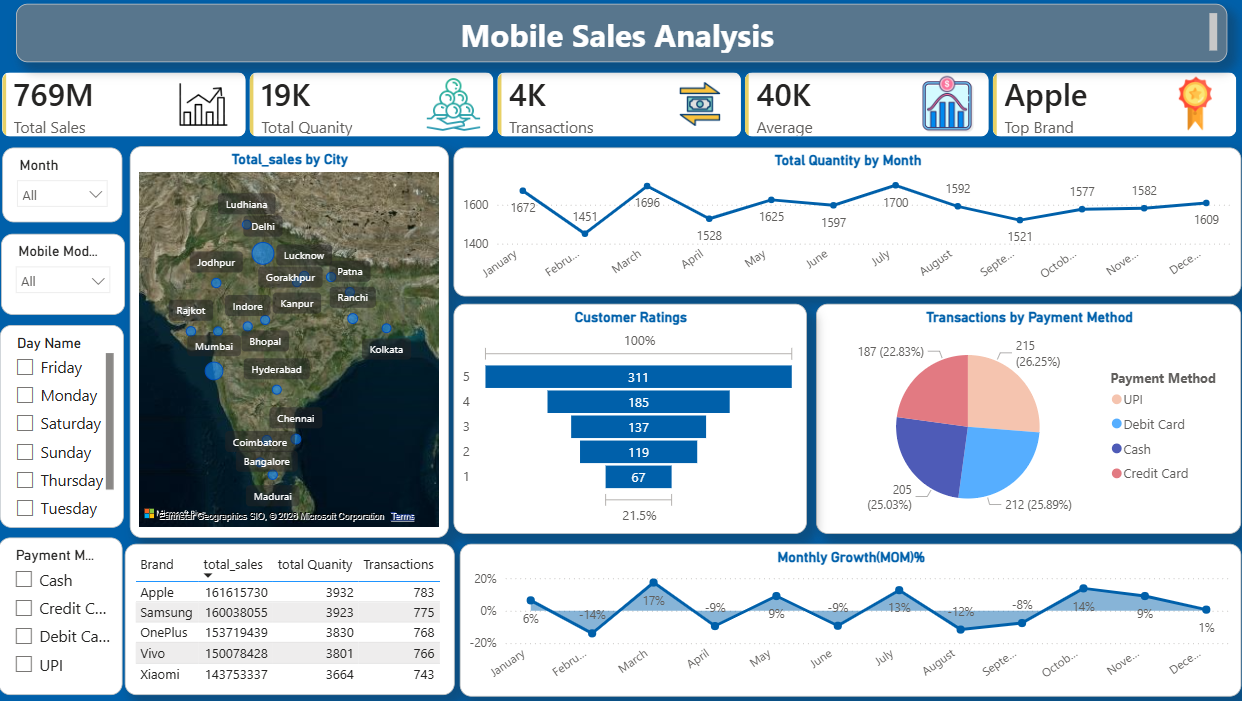

Layout of this report page (visuals, bound fields, positions):
{"tool":"powerbi","page":{"name":"Page 1","canvas":[1280,720],"ordinal":0},"visuals":[{"type":"slicer","fields":{"Values":["Calendar.Month"]},"box":[6.4,151.3,123.1,94.9],"z":1000},{"type":"cardVisual","fields":{"Data":["Mobile_salesdata.total_sales","Mobile_salesdata.total Quanity","Mobile_salesdata.Transactions","Mobile_salesdata.Average","Mobile_salesdata.Top Brand"]},"box":[0,67.9,1279.5,78.2],"z":2000},{"type":"map","title":"Total_sales by City","fields":{"Category":["Mobile_salesdata.City"],"Size":["Mobile_salesdata.total_sales"]},"box":[137.2,150,326.9,401.3],"z":3000},{"type":"lineChart","title":"Total Quantity by Month","fields":{"Y":["Mobile_salesdata.total Quanity"],"Category":["Calendar.Date.Variation.Date Hierarchy.Month"]},"box":[469.2,151.8,808,153],"z":4000},{"type":"pieChart","fields":{"Category":["Mobile_salesdata.Payment Method"],"Y":["Mobile_salesdata.Transactions"]},"box":[841.2,311.3,436.4,236.4],"z":5000},{"type":"funnel","title":"Customer Ratings","fields":{"Category":["Mobile_salesdata.Customer Ratings"],"Y":["CountNonNull(Mobile_salesdata.Customer Ratings)"]},"box":[469.8,311.3,362.3,236.4],"z":6000},{"type":"tableEx","fields":{"Values":["Mobile_salesdata.Brand","Mobile_salesdata.total_sales","Mobile_salesdata.total Quanity","Mobile_salesdata.Transactions"]},"box":[132.1,557.7,338.5,155.1],"z":7000},{"type":"slicer","fields":{"Values":["Mobile_salesdata.Mobile Model"]},"box":[5.1,256.4,126.9,91],"z":8000},{"type":"slicer","fields":{"Values":["Mobile_salesdata.Payment Method"]},"box":[2.6,551.3,126.9,161.5],"z":9000},{"type":"slicer","fields":{"Values":["Mobile_salesdata.Day Name"]},"box":[3.8,356.4,126.9,187.2],"z":11000},{"type":"areaChart","title":"Monthly Growth(MOM)% ","fields":{"Category":["Calendar.Date.Variation.Date Hierarchy.Month"],"Y":["Calendar.Monthly Growth(MOM)%"]},"box":[475.6,557.7,801.3,156.4],"z":12000},{"type":"textbox","box":[20.5,3.8,1242.3,60.3],"z":13000}]}

Visuals, with their boxes in screenshot pixels (x1, y1, x2, y2), scaled from the page's 1280x720 canvas onto the 1242x701 screenshot:
slicer - Calendar.Month: (left=6, top=147, right=126, bottom=240)
cardVisual - Mobile_salesdata.total_sales x Mobile_salesdata.total Quanity: (left=0, top=66, right=1241, bottom=142)
"Total_sales by City" map: (left=133, top=146, right=450, bottom=537)
"Total Quantity by Month" lineChart: (left=455, top=148, right=1239, bottom=297)
pieChart - Mobile_salesdata.Payment Method x Mobile_salesdata.Transactions: (left=816, top=303, right=1240, bottom=533)
"Customer Ratings" funnel: (left=456, top=303, right=807, bottom=533)
tableEx - Mobile_salesdata.Brand x Mobile_salesdata.total_sales: (left=128, top=543, right=457, bottom=694)
slicer - Mobile_salesdata.Mobile Model: (left=5, top=250, right=128, bottom=338)
slicer - Mobile_salesdata.Payment Method: (left=3, top=537, right=126, bottom=694)
slicer - Mobile_salesdata.Day Name: (left=4, top=347, right=127, bottom=529)
"Monthly Growth(MOM)% " areaChart: (left=461, top=543, right=1239, bottom=695)
textbox: (left=20, top=4, right=1225, bottom=62)
